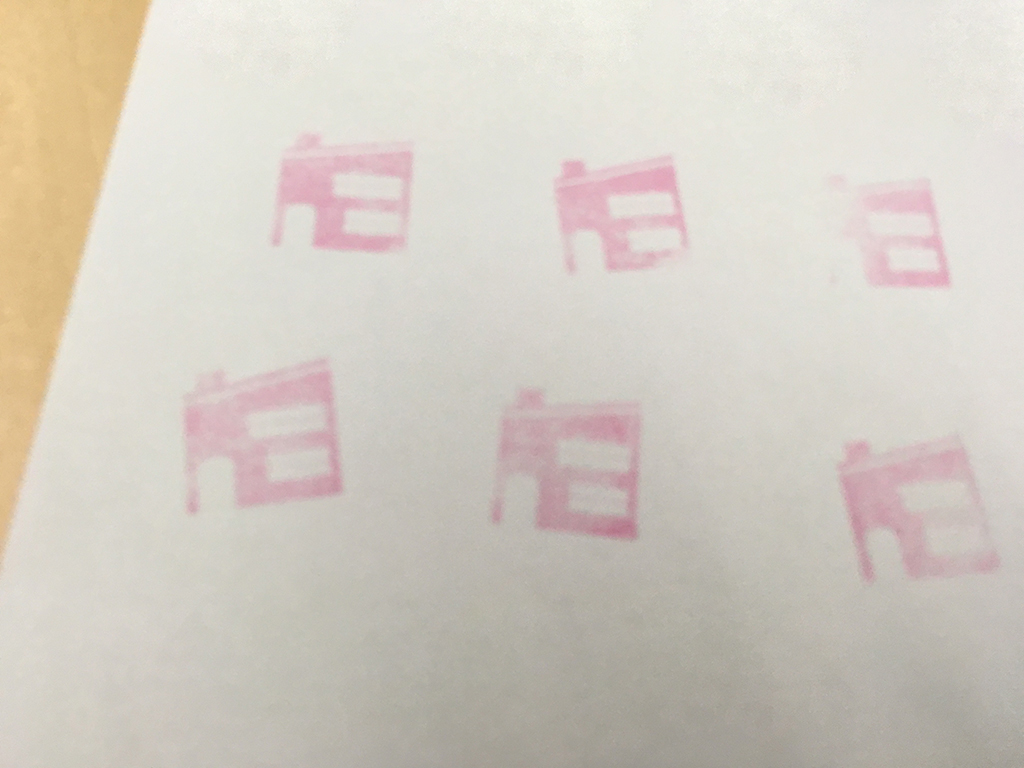house: (814, 422, 1009, 593), (478, 367, 650, 550), (172, 344, 350, 516), (526, 137, 708, 282), (258, 116, 423, 266), (800, 165, 961, 302)
